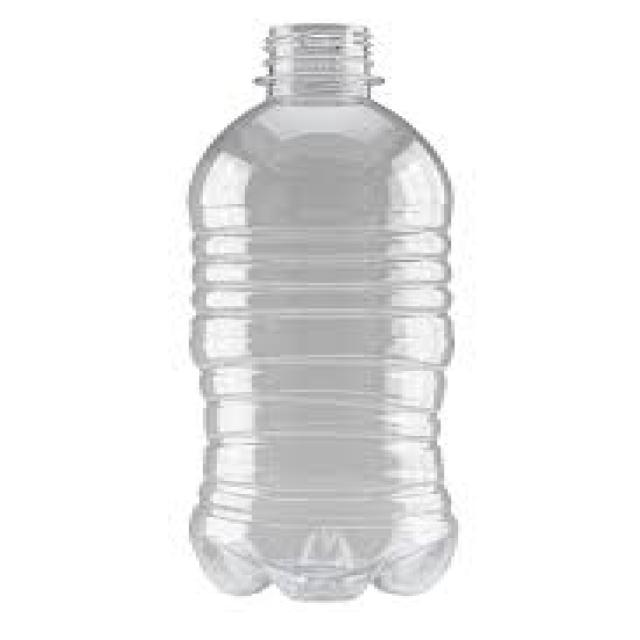bottom: (186, 516, 466, 604)
no_cap: (223, 21, 390, 97)
